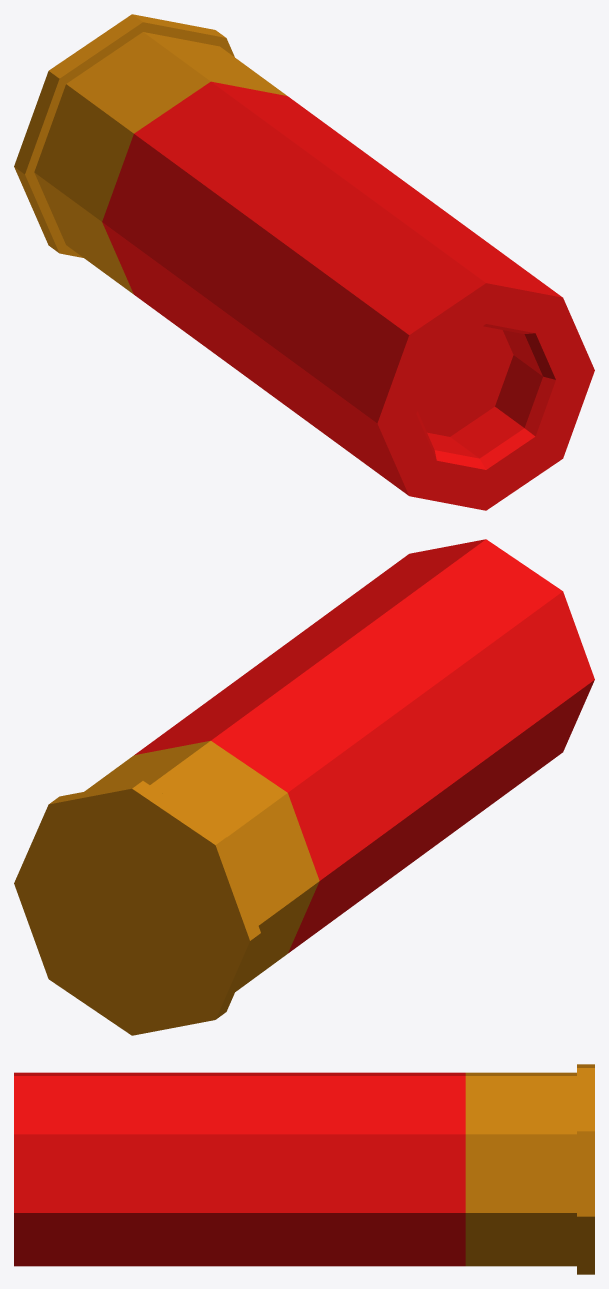
File: Shotgun Shells.fbx
3 renders of one model, top to bottom at view 1: azimuth 30°, elevation 25°; view 2: azimuth 150°, elevation 25°; view 3: azimuth 270°, elevation 25°, orthographic. The views are drawn at different scales.
Visible parts, largest first — view 1: Shotgun Shell; view 2: Shotgun Shell; view 3: Shotgun Shell.
Part boxes in pixels (<box>): Shotgun Shell: <box>14,14,594,510</box>; Shotgun Shell: <box>14,539,594,1035</box>; Shotgun Shell: <box>14,1064,594,1274</box>.
Bounding box in the file's own units: 0.0272 × 0.0272 × 0.0707.
